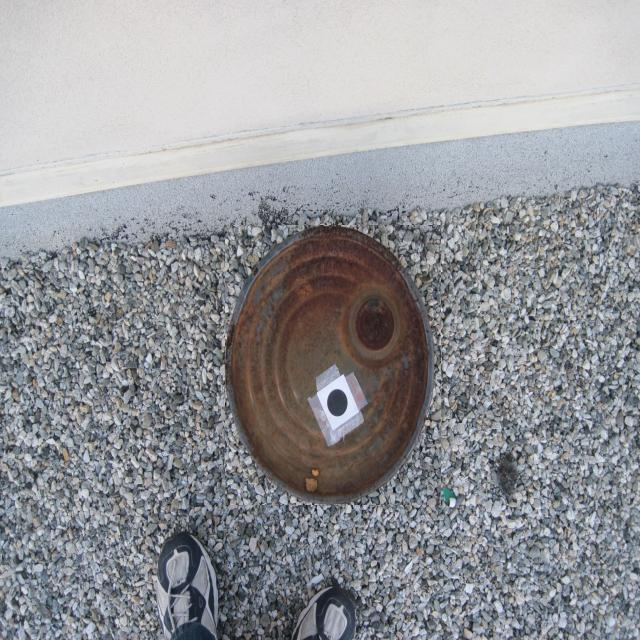Corrosion: (318, 228, 428, 372), (347, 314, 433, 498), (228, 358, 331, 498), (230, 227, 340, 346), (278, 256, 356, 398), (228, 303, 282, 431), (282, 456, 398, 504), (322, 440, 369, 466)
